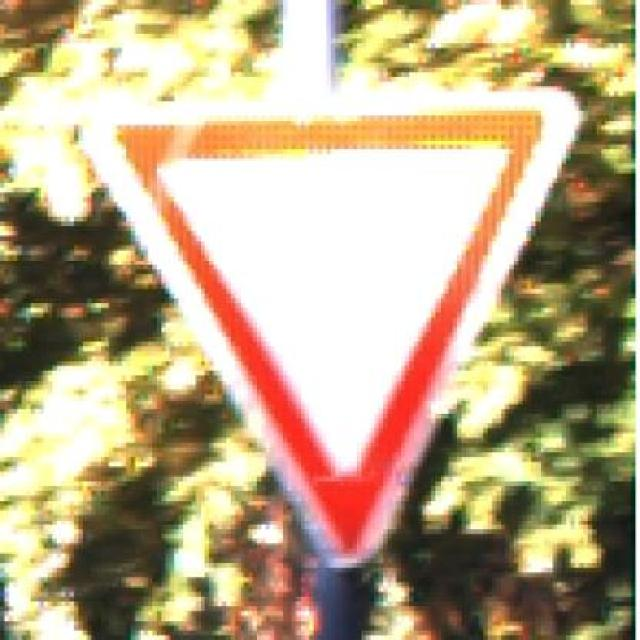Give Way: (56, 62, 622, 587)
